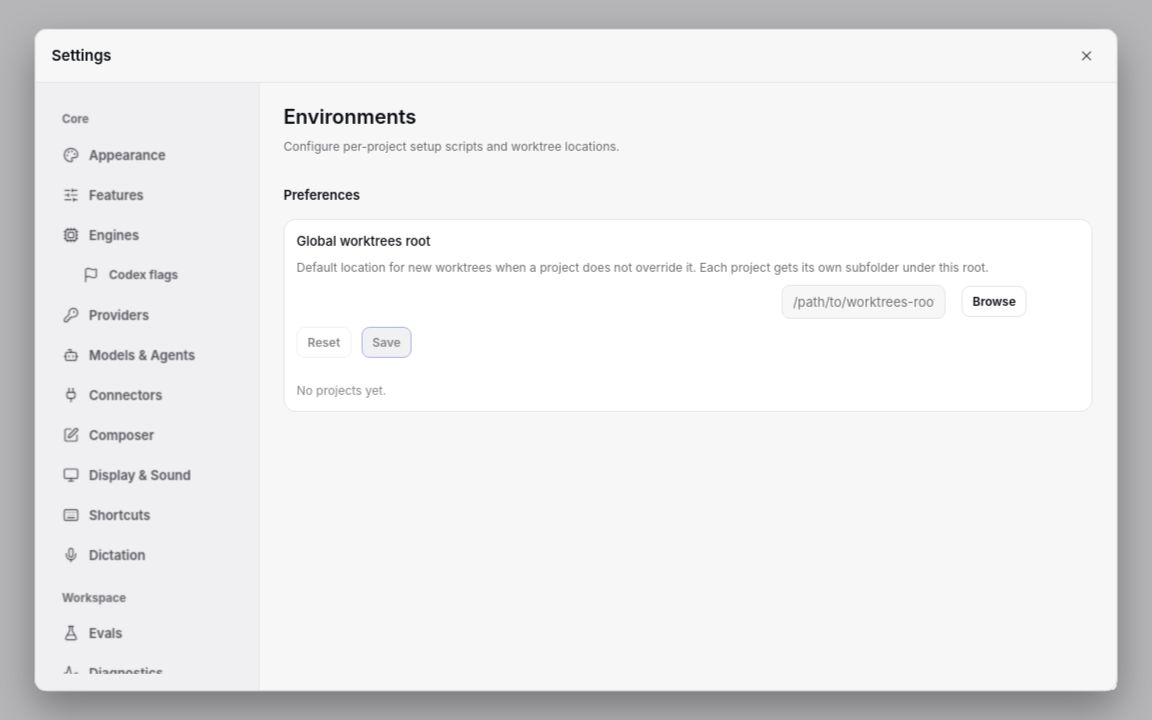
Test: SettingsView Environments › shows save errors for the global worktrees root when there are no projects
Type "I:/cm-worktrees" into the field labelled "Global worktrees root" at (864, 301), box [782,284,946,318]
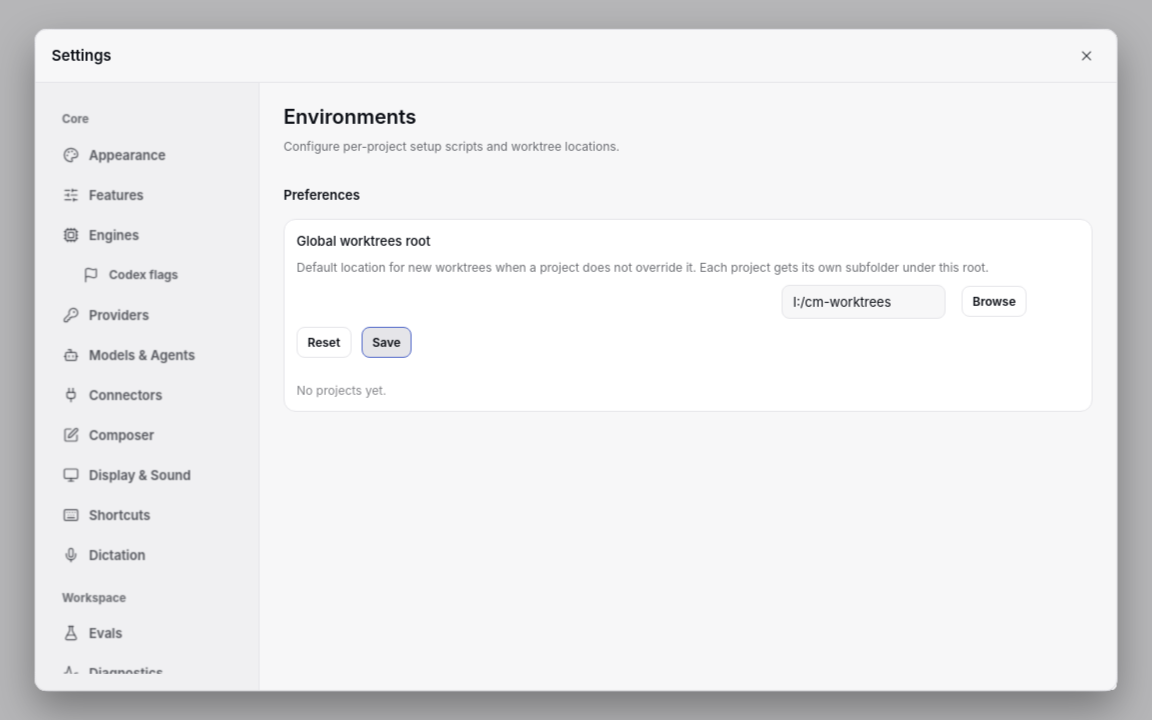
Click the button "Save" at (386, 342), box [361,326,412,357]
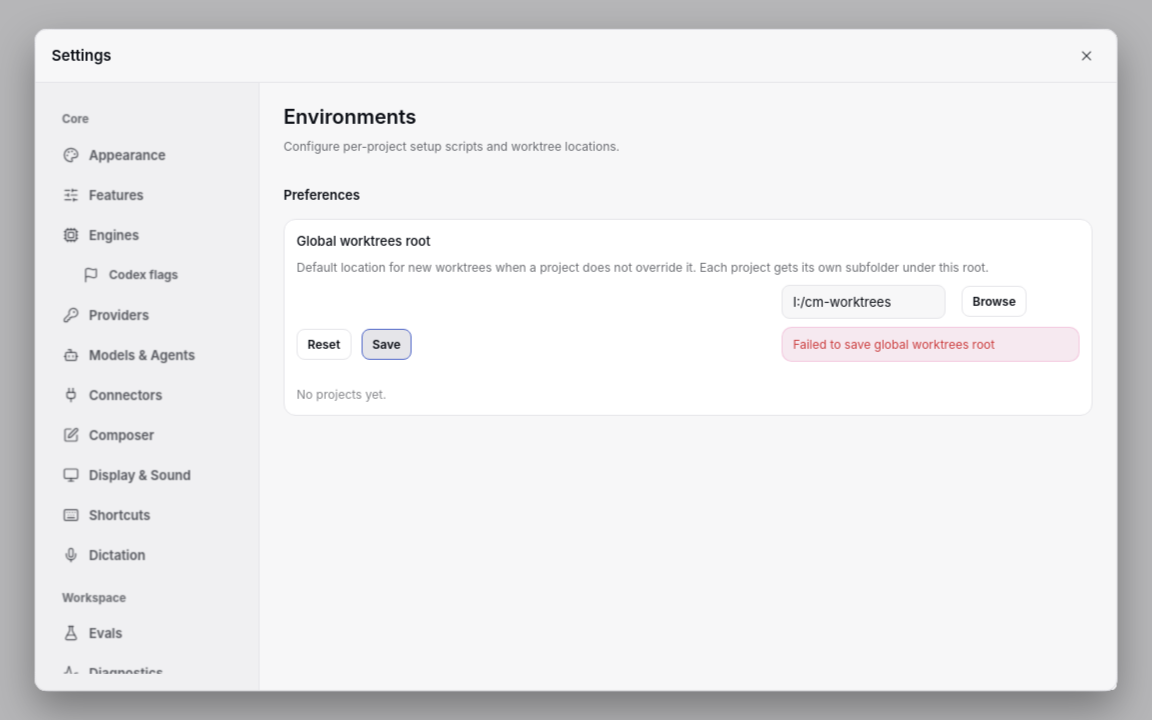
Now the text "Failed to save global worktrees root" is shown, box [782,326,1080,362]
